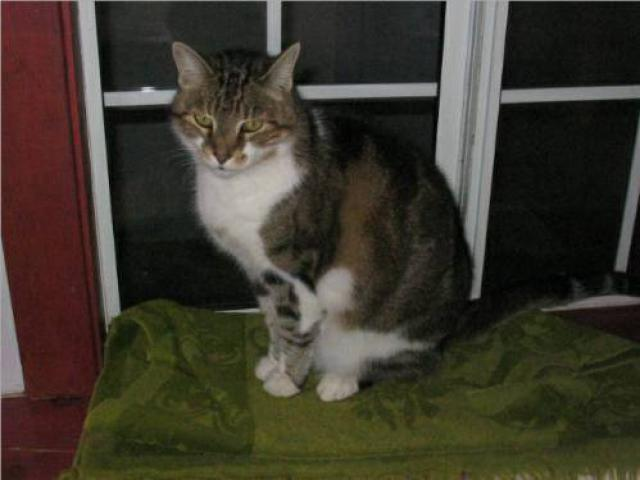cat: (162, 31, 489, 400)
